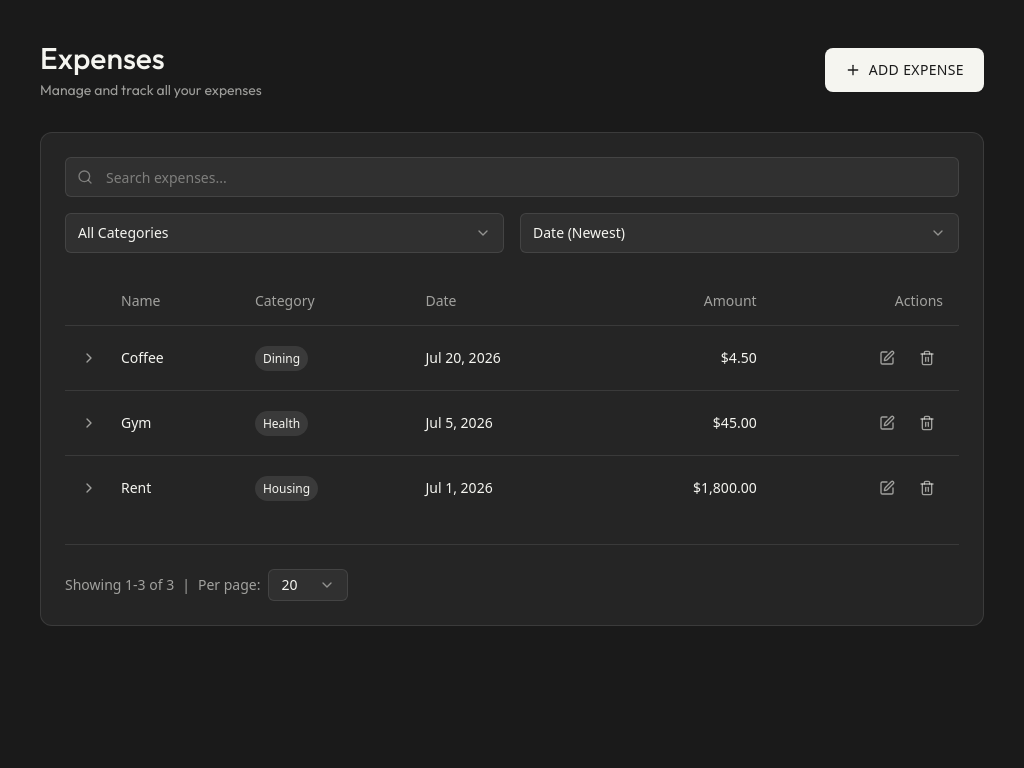
ExpensesPage - one delete confirmation, scoped to its row › targets the newly clicked row after a cancelled attempt
Later steps or results of the test are not shown.
Expected: the table is shown, [65,277,959,520]
Expected: the text "Rent" is shown, [121,478,151,496]
Click the button named "Delete Rent" at [927, 488], box [911,472,943,504]
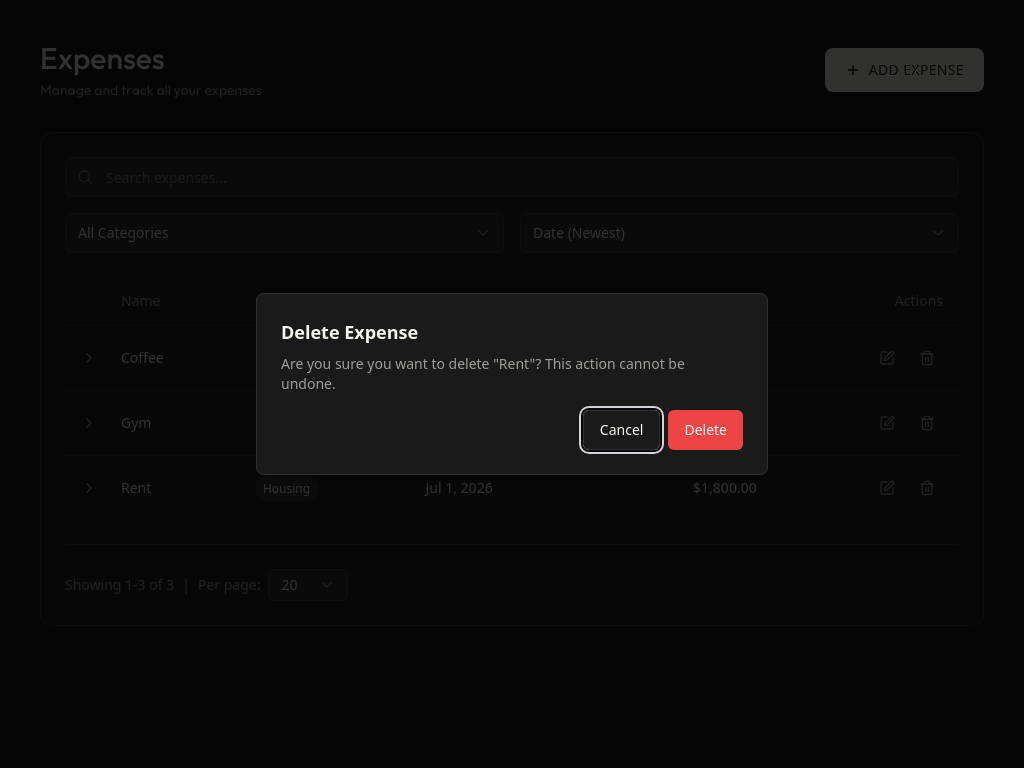
Expected: the number of dialogs is 1, [256,293,768,475]
Click the button "Cancel" at [622, 430], box [583,410,660,450]
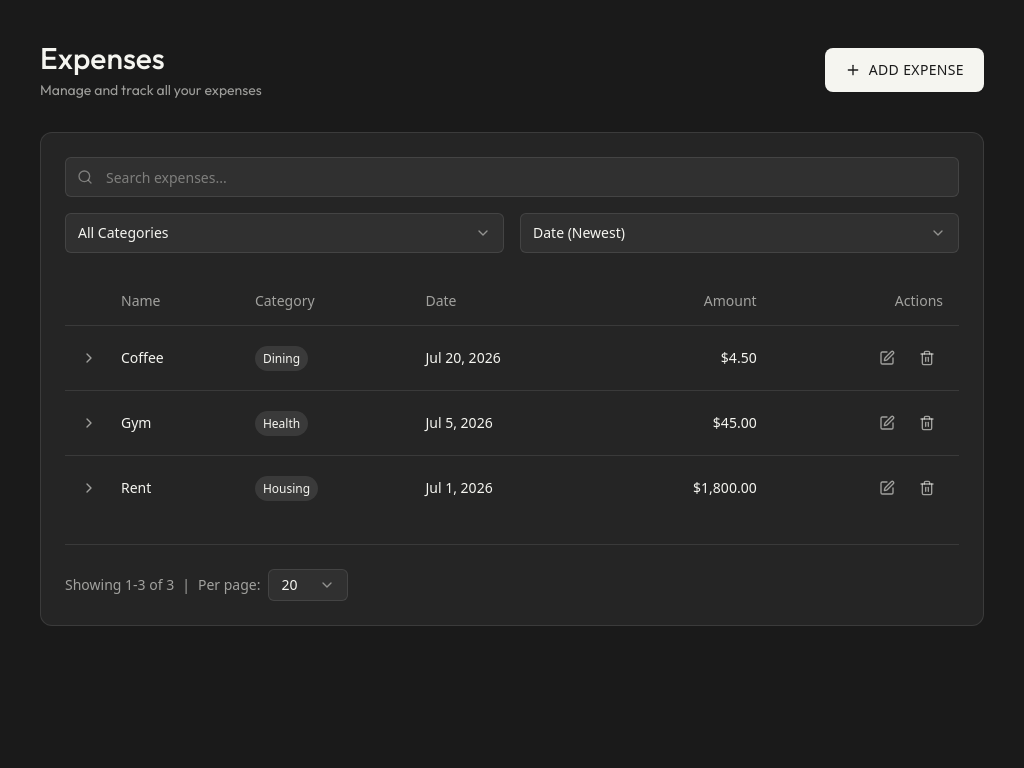
Expected: the dialog is gone
Click the button named "Delete Coffee" at [927, 358], box [911,342,943,374]
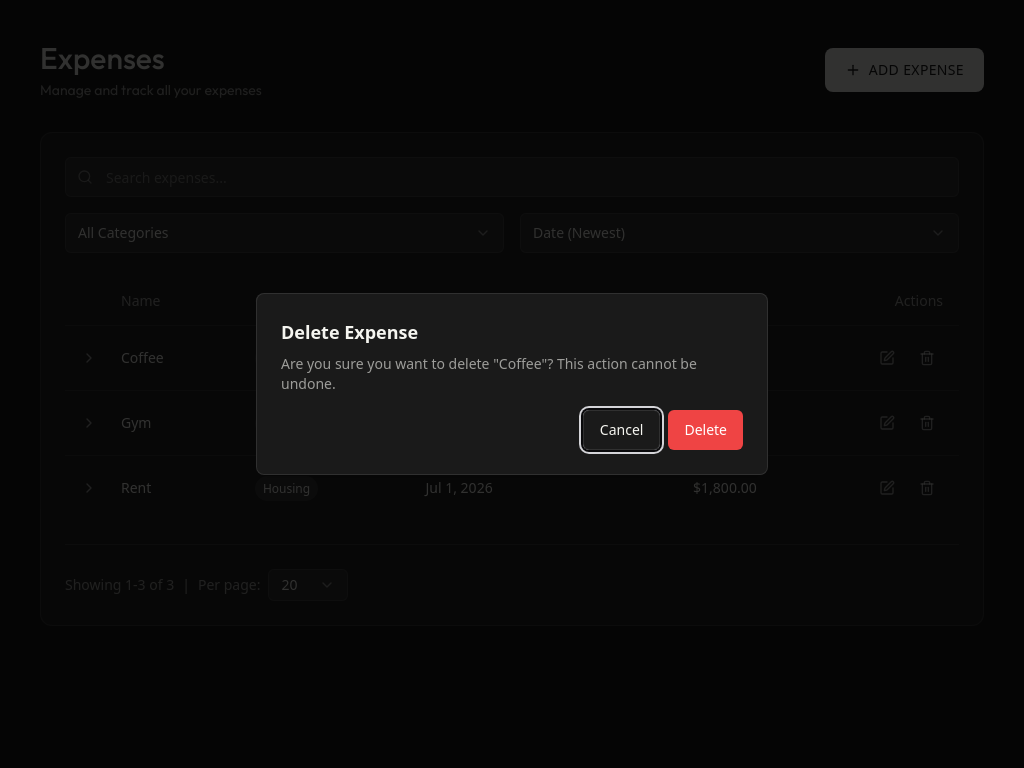
Expected: the number of dialogs is 1, [256,293,768,475]
Expected: the text "\"Coffee\"" is shown, [281,354,697,393]
